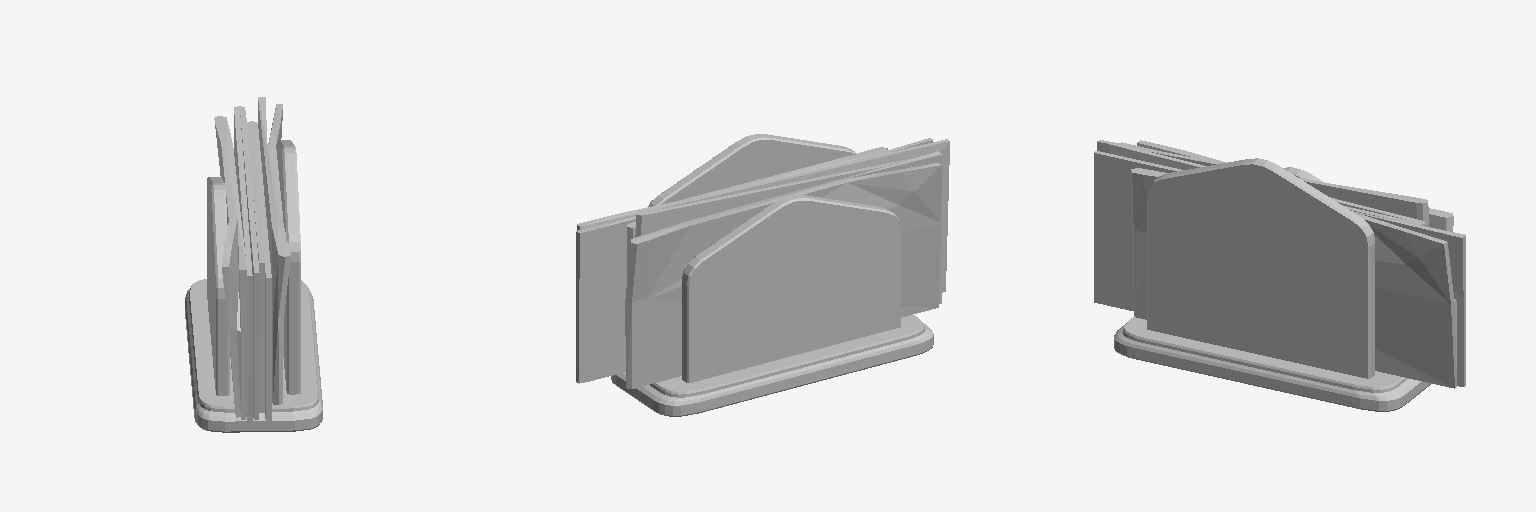
3 renders of one model, left to right at view 1: azimuth 30°, elevation 25°; view 2: azimuth 150°, elevation 25°; view 3: azimuth 270°, elevation 25°, orthographic.
Visible parts, largest first — view 1: Bistro_Research_Exterior_Paris_NapkinHolder_01A___7__6129; view 2: Bistro_Research_Exterior_Paris_NapkinHolder_01A___7__6129; view 3: Bistro_Research_Exterior_Paris_NapkinHolder_01A___7__6129.
Boxes of the visible parts, x1,y1,x2,y2 form: Bistro_Research_Exterior_Paris_NapkinHolder_01A___7__6129: [185, 97, 322, 432]; Bistro_Research_Exterior_Paris_NapkinHolder_01A___7__6129: [576, 134, 949, 416]; Bistro_Research_Exterior_Paris_NapkinHolder_01A___7__6129: [1094, 140, 1465, 411].
Bounding box in the file's own units: 0.2913 × 0.2707 × 0.4297.